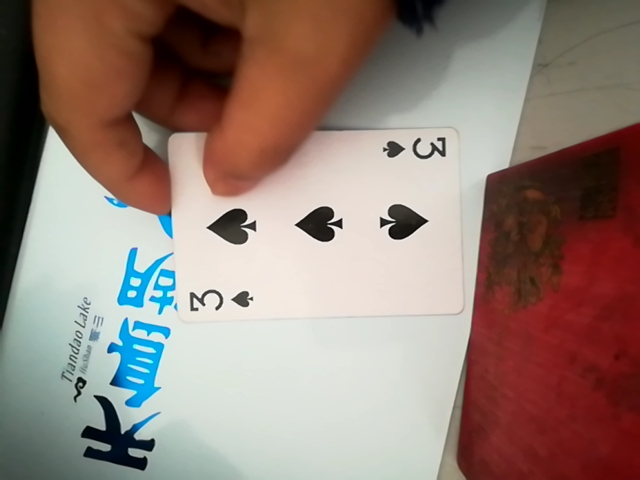ht 3: (164, 121, 489, 329)
